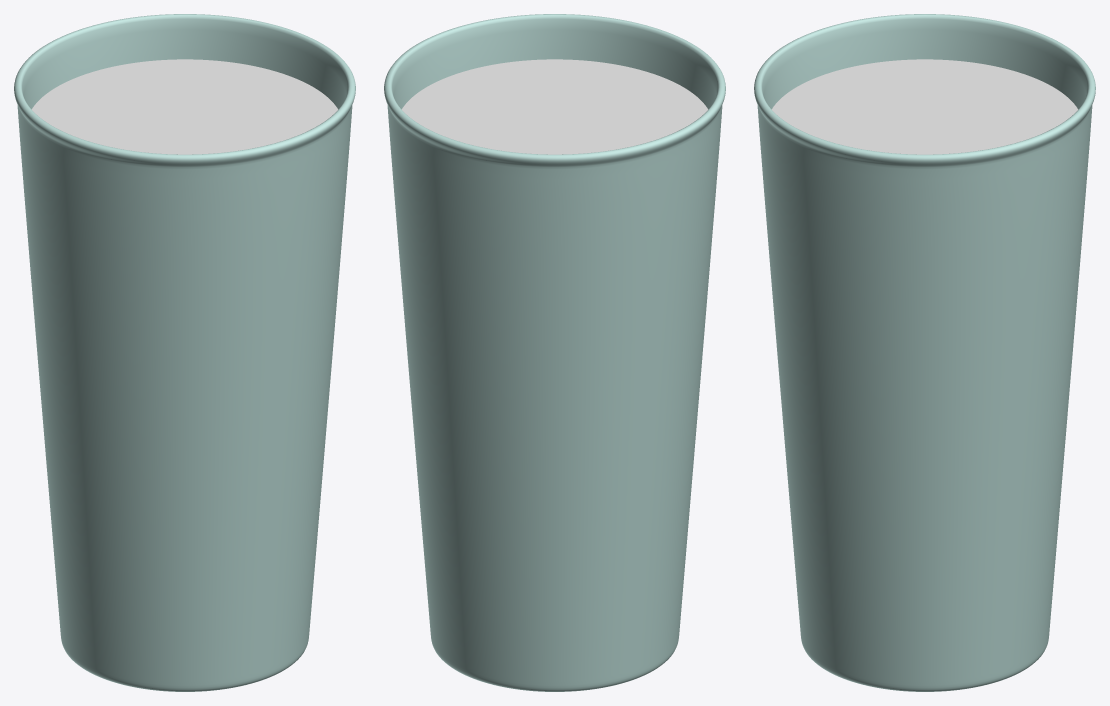
File: Water.fbx
3 renders of one model, left to right at view 1: azimuth 30°, elevation 25°; view 2: azimuth 150°, elevation 25°; view 3: azimuth 270°, elevation 25°, orthographic.
Visible parts, largest first — view 1: American Pint Glass, Water; view 2: American Pint Glass, Water; view 3: American Pint Glass, Water.
Boxes of the visible parts, left/top/right/bottom form: American Pint Glass: left=14, top=14, right=355, bottom=691; Water: left=31, top=59, right=338, bottom=154; American Pint Glass: left=384, top=14, right=725, bottom=691; Water: left=401, top=59, right=708, bottom=154; American Pint Glass: left=754, top=14, right=1095, bottom=691; Water: left=771, top=59, right=1078, bottom=154.
Bounding box in the file's own units: 8.29 × 14.91 × 8.29.
